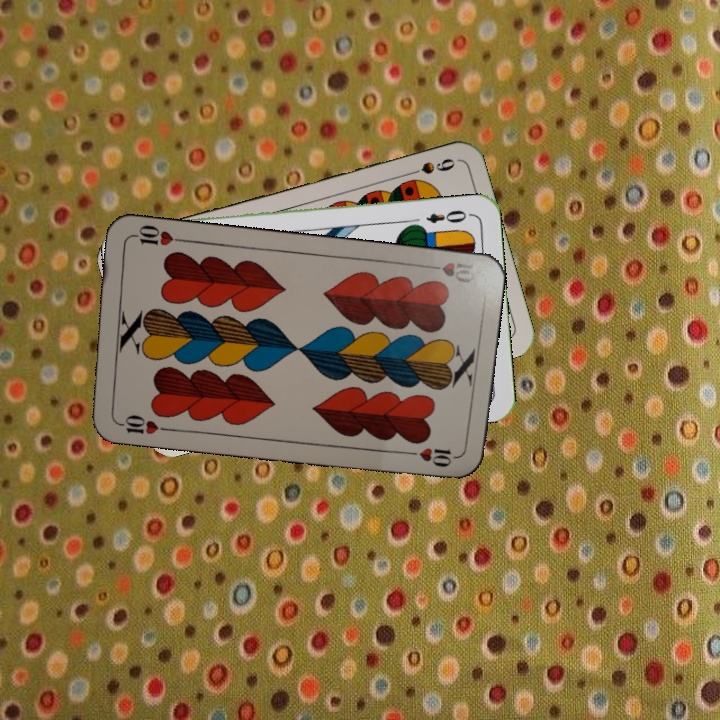EO: (422, 205, 474, 226)
H10: (420, 258, 480, 286), (111, 411, 170, 437)
S9: (400, 154, 458, 180)
